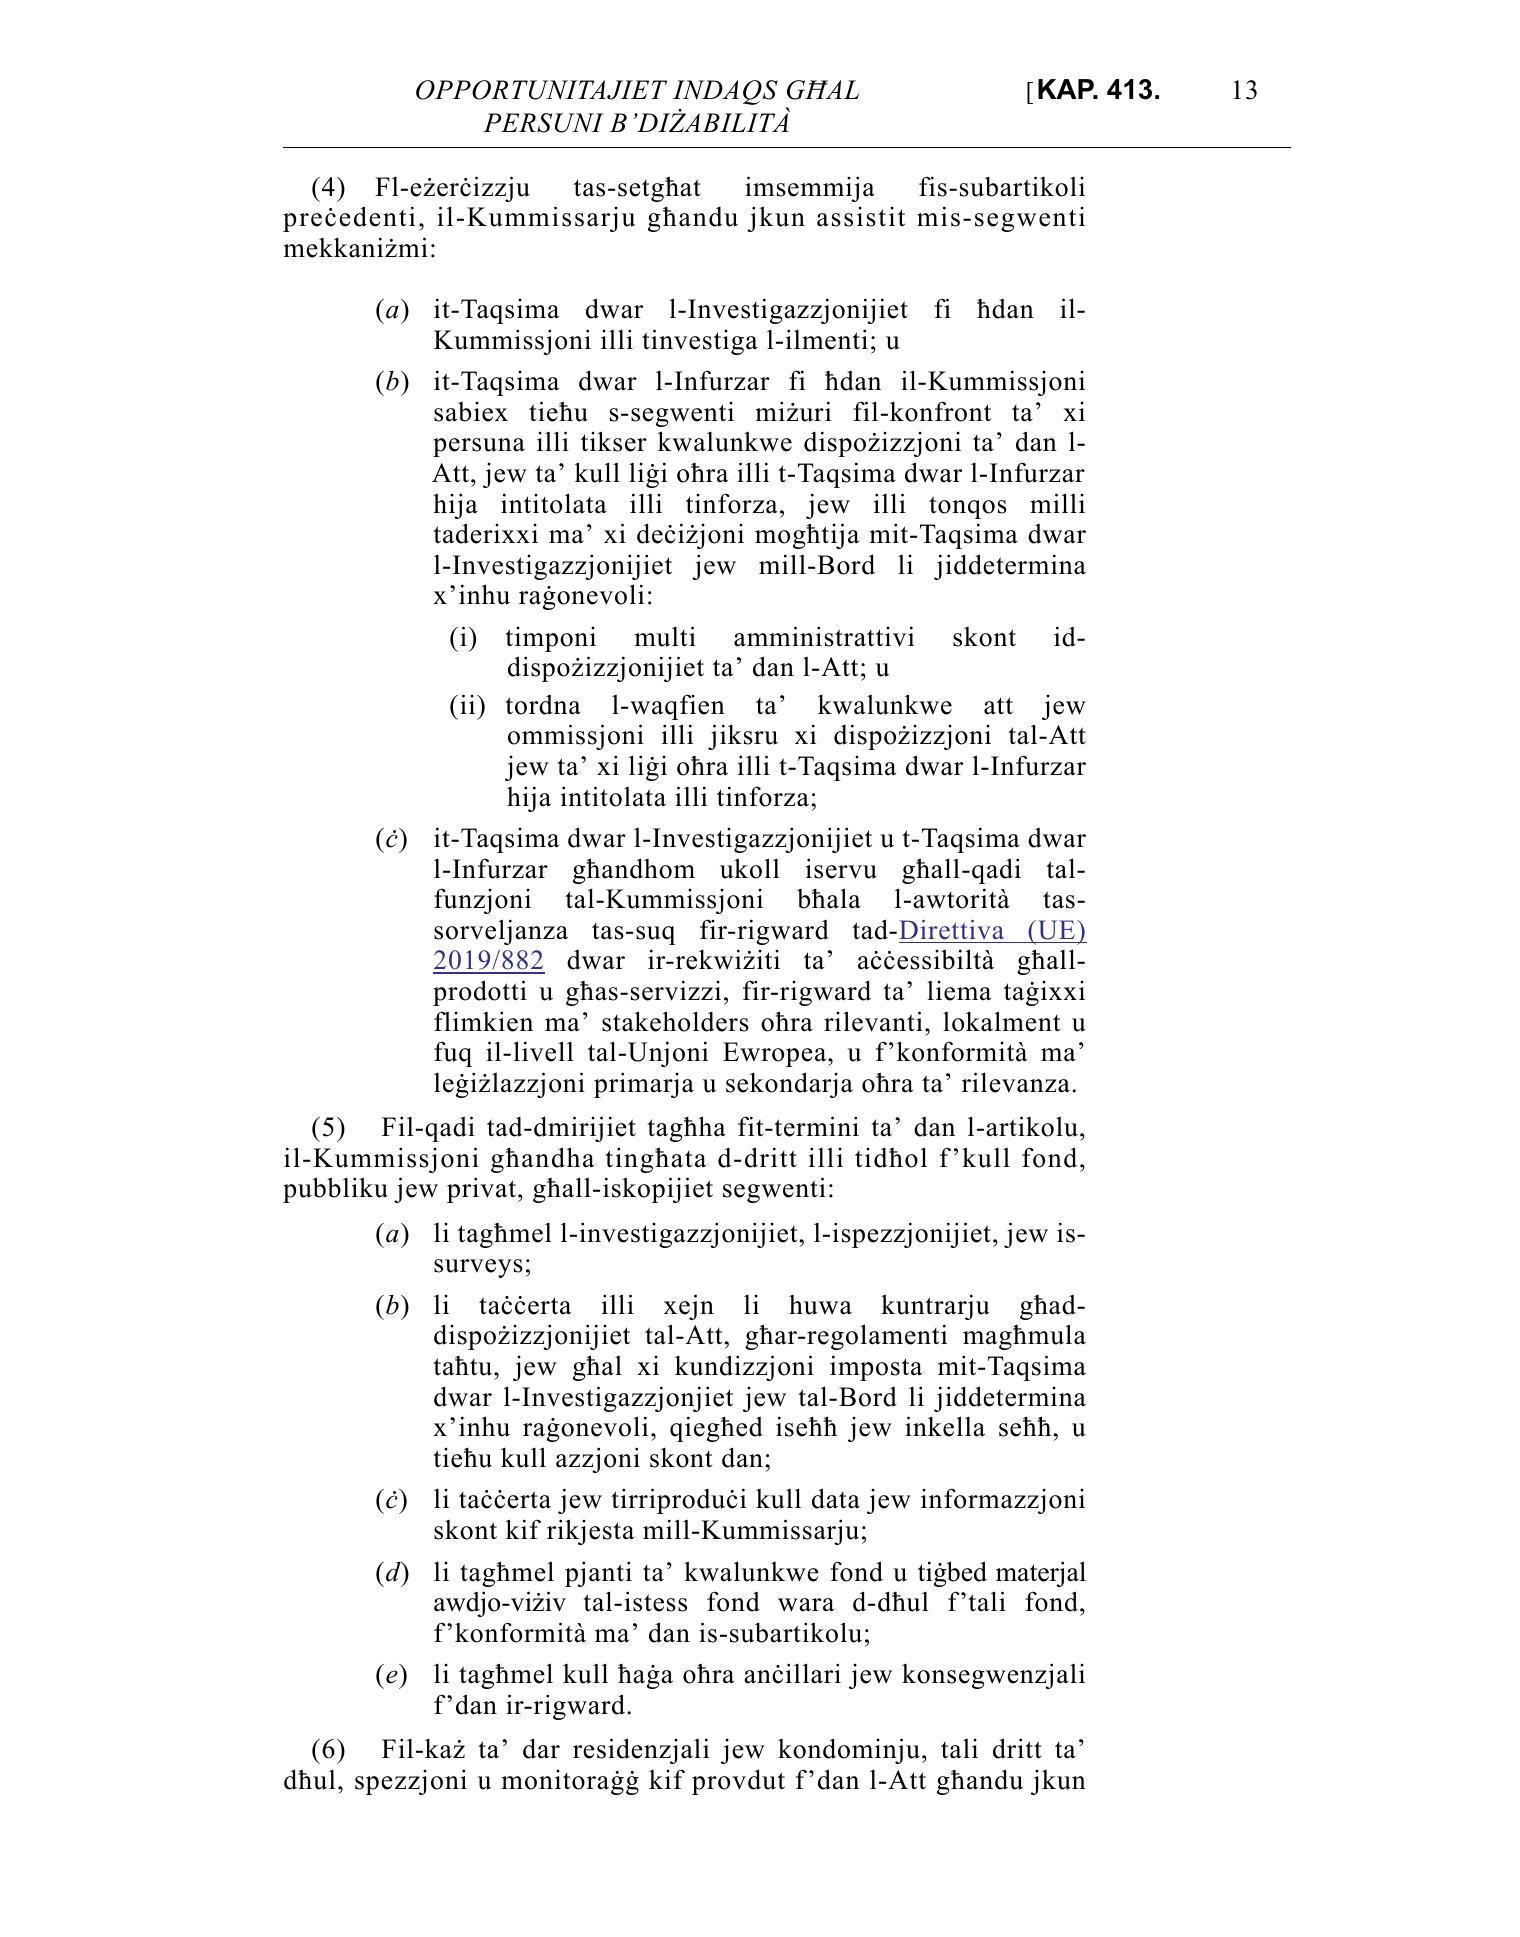text: (269, 164, 1096, 1811)
